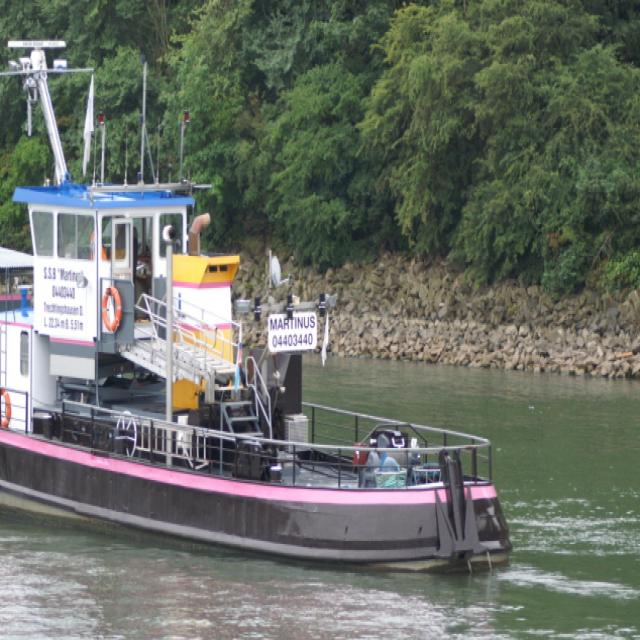tugboat: (1, 26, 520, 590)
